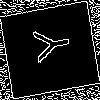Y: (24, 25, 72, 65)
